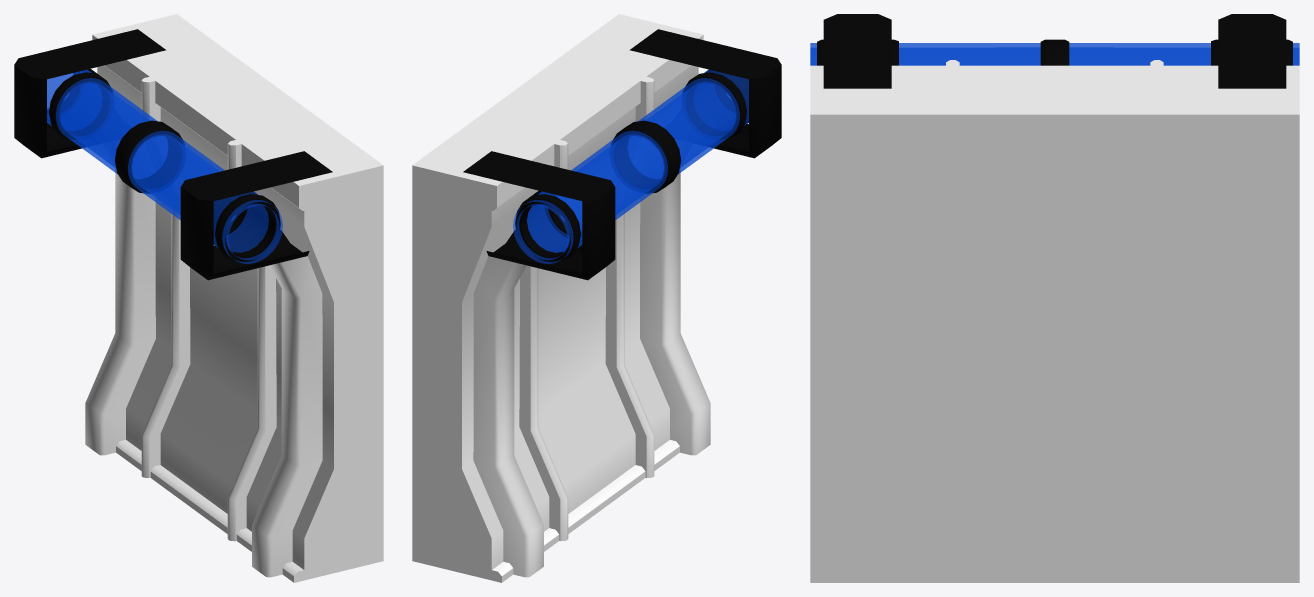
File: Wall1.fbx
3 renders of one model, left to right at view 1: azimuth 30°, elevation 25°; view 2: azimuth 150°, elevation 25°; view 3: azimuth 270°, elevation 25°, orthographic. The views are drawn at different scales.
Visible parts, largest first — view 1: Wall; view 2: Wall; view 3: Wall.
Boxes of the visible parts, x1,y1,x2,y2 form: Wall: (14,14,383,582); Wall: (412,14,781,582); Wall: (810,14,1299,582).
Size of the model in its own units: 1.75 by 3.8 by 3.6.
